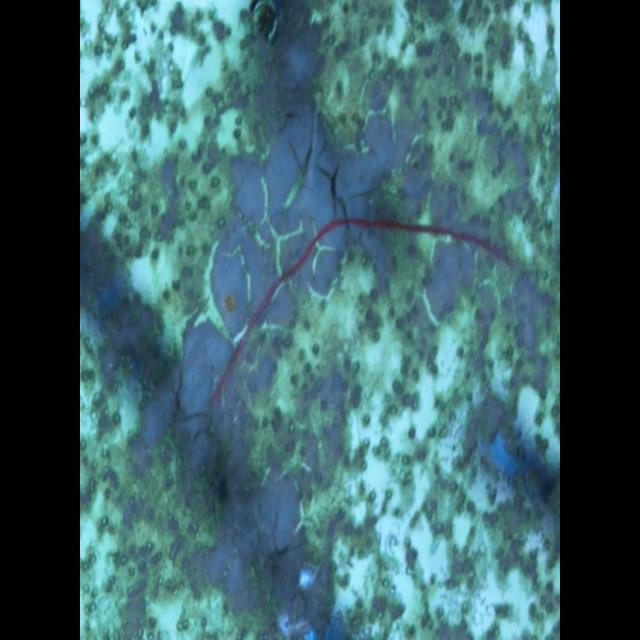Fibre: (206, 212, 534, 410)
